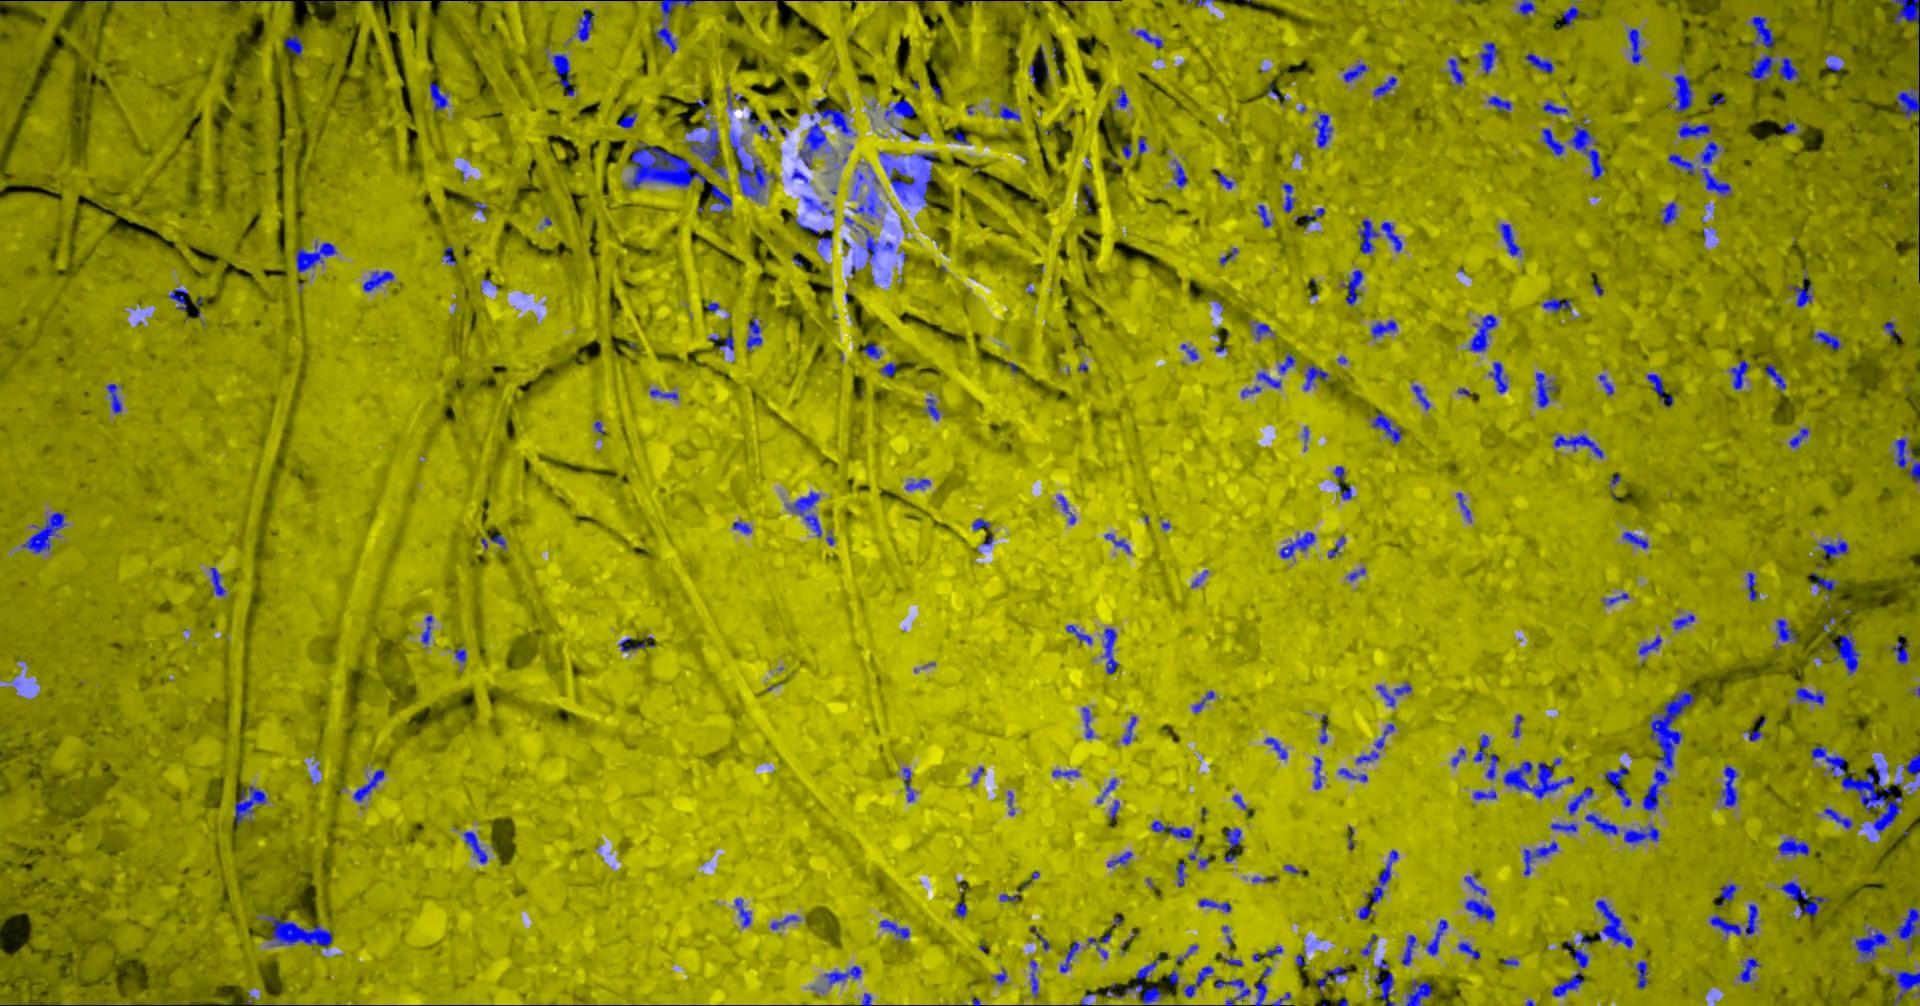ant: (729, 131, 775, 199), (1503, 761, 1575, 798), (265, 915, 331, 945), (1568, 123, 1604, 179), (22, 511, 66, 553), (1595, 899, 1633, 948), (1550, 948, 1589, 996), (1779, 880, 1829, 916), (1699, 141, 1730, 194), (1366, 848, 1397, 902), (1355, 723, 1394, 763), (1709, 903, 1757, 936), (786, 492, 822, 536), (1829, 631, 1859, 674), (797, 122, 825, 168), (857, 224, 893, 259), (295, 241, 337, 271), (234, 785, 265, 823), (690, 126, 720, 165), (1553, 434, 1603, 459), (1472, 734, 1498, 779), (1523, 841, 1557, 875), (1854, 926, 1888, 959), (1604, 766, 1630, 807), (1468, 314, 1497, 351), (352, 768, 383, 801), (1895, 907, 1919, 949), (1890, 970, 1919, 1005), (1373, 959, 1394, 1005), (1279, 531, 1316, 558), (1371, 410, 1401, 443), (1214, 978, 1250, 1005), (1183, 965, 1213, 997), (817, 108, 851, 135), (1646, 373, 1672, 406), (1316, 967, 1349, 993), (552, 55, 574, 95), (1124, 984, 1167, 1005), (657, 0, 695, 22), (1375, 683, 1411, 706), (1425, 920, 1448, 955), (462, 831, 488, 862), (1341, 269, 1363, 305), (1750, 15, 1773, 48), (1310, 113, 1332, 147), (1535, 372, 1557, 406), (1895, 86, 1919, 117), (1672, 72, 1691, 111), (823, 965, 861, 984), (1150, 821, 1191, 838), (1102, 627, 1117, 674), (1583, 813, 1617, 835), (1747, 53, 1774, 80), (851, 188, 877, 215), (1567, 786, 1592, 814), (1890, 0, 1919, 24), (1357, 218, 1378, 253), (1721, 765, 1737, 807), (1789, 276, 1811, 307), (1623, 824, 1658, 843), (1253, 967, 1271, 1005), (1404, 979, 1431, 1005), (747, 111, 770, 140), (1464, 899, 1495, 921), (1498, 224, 1519, 255), (884, 98, 914, 118), (1380, 221, 1401, 251), (362, 271, 392, 291), (1303, 365, 1327, 390), (1135, 955, 1161, 979), (1542, 128, 1564, 155), (1667, 152, 1694, 175), (1777, 837, 1808, 856), (1823, 807, 1851, 828), (1818, 539, 1848, 559), (1777, 56, 1799, 81), (803, 196, 833, 215), (1057, 494, 1076, 525), (1059, 941, 1078, 972), (710, 184, 731, 211), (1525, 52, 1553, 72), (1479, 41, 1497, 72), (1490, 361, 1507, 392), (1730, 359, 1749, 389), (1895, 438, 1914, 467), (1263, 737, 1288, 760), (1342, 61, 1368, 83), (1738, 956, 1760, 982), (745, 318, 762, 351), (1223, 828, 1239, 861), (655, 25, 676, 52), (1765, 363, 1785, 390), (1065, 624, 1092, 644), (618, 636, 654, 652), (879, 920, 909, 937), (1811, 332, 1840, 349), (1794, 687, 1823, 705), (1135, 29, 1162, 48), (1103, 533, 1130, 553), (1810, 572, 1836, 591), (577, 8, 592, 41), (734, 897, 750, 927), (1627, 28, 1641, 64), (429, 83, 447, 111), (1775, 619, 1797, 641), (1192, 690, 1214, 713), (1455, 492, 1470, 522), (1677, 123, 1710, 137), (1171, 159, 1187, 187), (1197, 898, 1230, 912), (1097, 779, 1116, 803), (1029, 926, 1048, 950), (1370, 319, 1396, 337), (1411, 384, 1429, 409), (105, 384, 121, 413), (1338, 767, 1368, 782), (1401, 934, 1415, 965), (1211, 168, 1233, 188), (1464, 874, 1484, 895), (1087, 937, 1107, 959), (1373, 76, 1396, 95), (1638, 635, 1661, 654), (902, 767, 914, 801), (1175, 944, 1197, 963), (1718, 883, 1736, 907), (1457, 941, 1481, 959), (210, 567, 225, 594), (1622, 531, 1647, 547), (1106, 851, 1131, 868), (168, 288, 187, 310), (1327, 535, 1345, 558), (1256, 371, 1280, 387), (1542, 297, 1570, 311), (770, 915, 797, 929), (1448, 58, 1463, 84), (1305, 207, 1324, 227), (1218, 246, 1238, 265), (1789, 427, 1808, 447), (1081, 708, 1093, 738), (1660, 201, 1676, 224), (1892, 640, 1909, 663), (1283, 183, 1295, 212), (1487, 95, 1511, 111), (717, 326, 733, 351), (284, 36, 302, 56), (1277, 353, 1295, 373), (1902, 753, 1919, 775), (1360, 934, 1377, 955), (1123, 716, 1135, 744), (1257, 205, 1272, 227), (1255, 321, 1272, 340), (1029, 959, 1037, 997), (1562, 5, 1578, 25), (1597, 373, 1613, 395), (1672, 614, 1694, 629), (1542, 102, 1567, 114), (904, 478, 930, 490), (1603, 592, 1628, 605), (924, 398, 938, 420), (1636, 960, 1647, 988), (1517, 0, 1537, 17), (617, 111, 636, 127), (1114, 86, 1128, 108), (998, 105, 1020, 119), (649, 389, 678, 399), (422, 615, 432, 644), (863, 342, 881, 358), (1180, 343, 1197, 359), (1313, 756, 1322, 789), (442, 245, 456, 264), (1451, 747, 1465, 766), (1239, 385, 1260, 398), (791, 168, 808, 183), (1347, 567, 1365, 580), (1747, 572, 1756, 600), (1472, 789, 1496, 799), (731, 521, 750, 533), (1051, 768, 1078, 777), (954, 128, 969, 144), (1883, 321, 1898, 337), (1512, 714, 1523, 737), (879, 362, 895, 376), (1176, 861, 1185, 887), (1319, 714, 1327, 743), (1109, 799, 1119, 821), (1907, 462, 1919, 481), (817, 236, 830, 251), (1337, 484, 1351, 499), (490, 533, 505, 547), (1357, 904, 1371, 920), (993, 967, 1006, 983), (971, 518, 989, 530), (1265, 945, 1283, 956), (1710, 91, 1724, 105), (1550, 823, 1576, 831), (954, 902, 966, 917), (1137, 136, 1145, 155), (1333, 465, 1343, 481), (1783, 121, 1796, 133), (455, 647, 465, 662), (1747, 730, 1763, 741), (1168, 970, 1178, 984), (303, 0, 358, 1)
